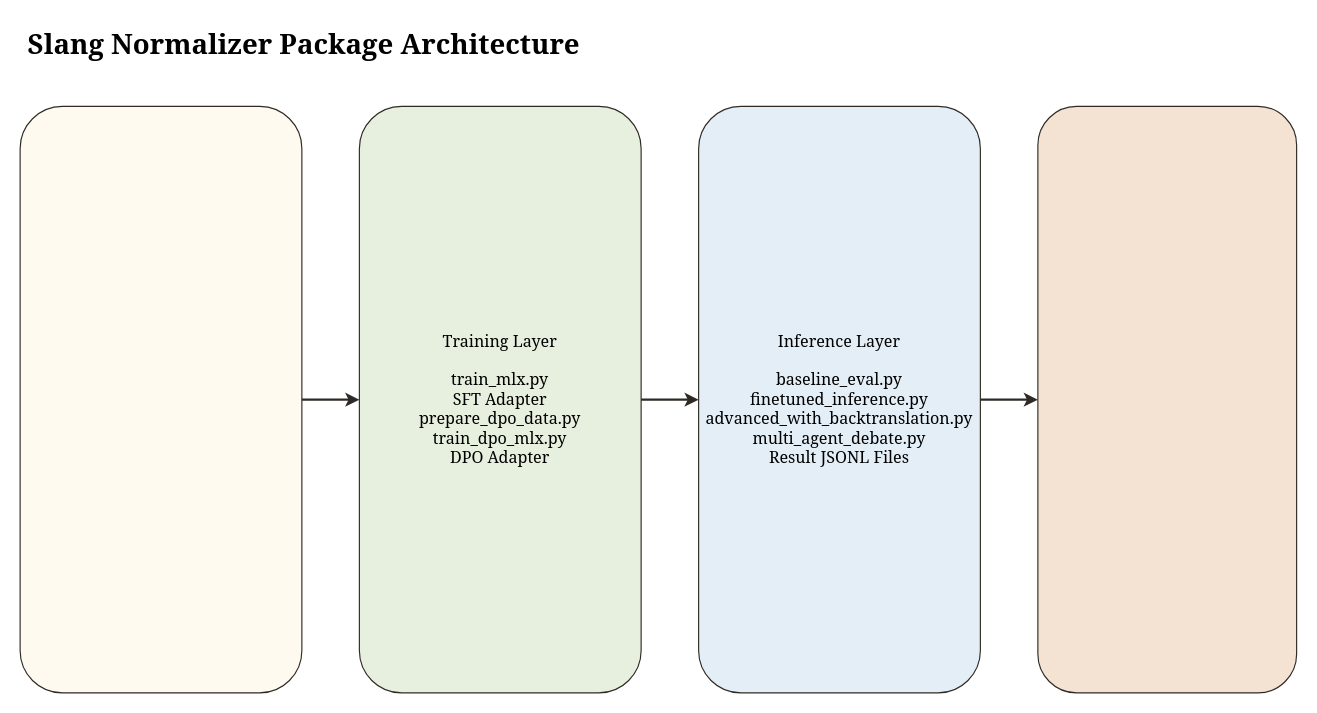
The diagram is 1317 pixels wide and 713 high, and some of its shapes have lost their labels. Here are the shapes that lost their labels. From the top down, the centre of each, then its label:
At (x=160, y=399): "Data Layer Raw TSV Files preprocess.py prepare_mlx_data.py MLX Train Data".
At (x=1167, y=399): "Evaluation Layer combine_results.py Combined JSONL + CSV tests/test_cleaning.py".
